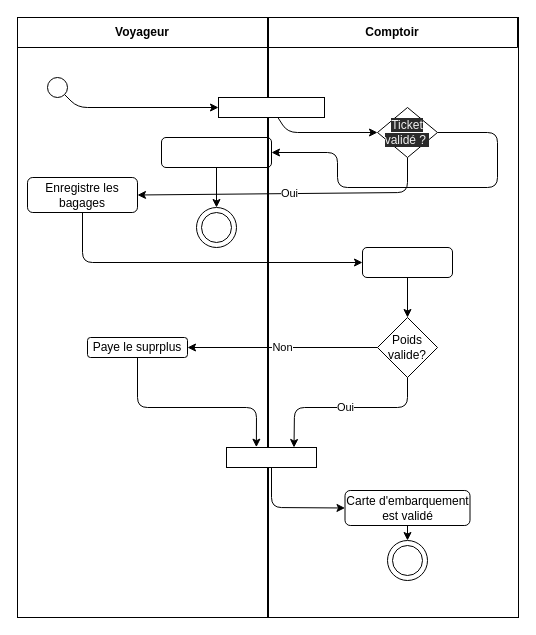
Some shapes in this 536 by 635 pixel diagram are drawn without their labels. Here are the shapes that lost their labels. From the top down, the centre of each, then its label:
At point (271, 107): "Présenter ticket".
At point (216, 152): "Contact le service client".
At point (407, 262): "Vérifie le poids".
